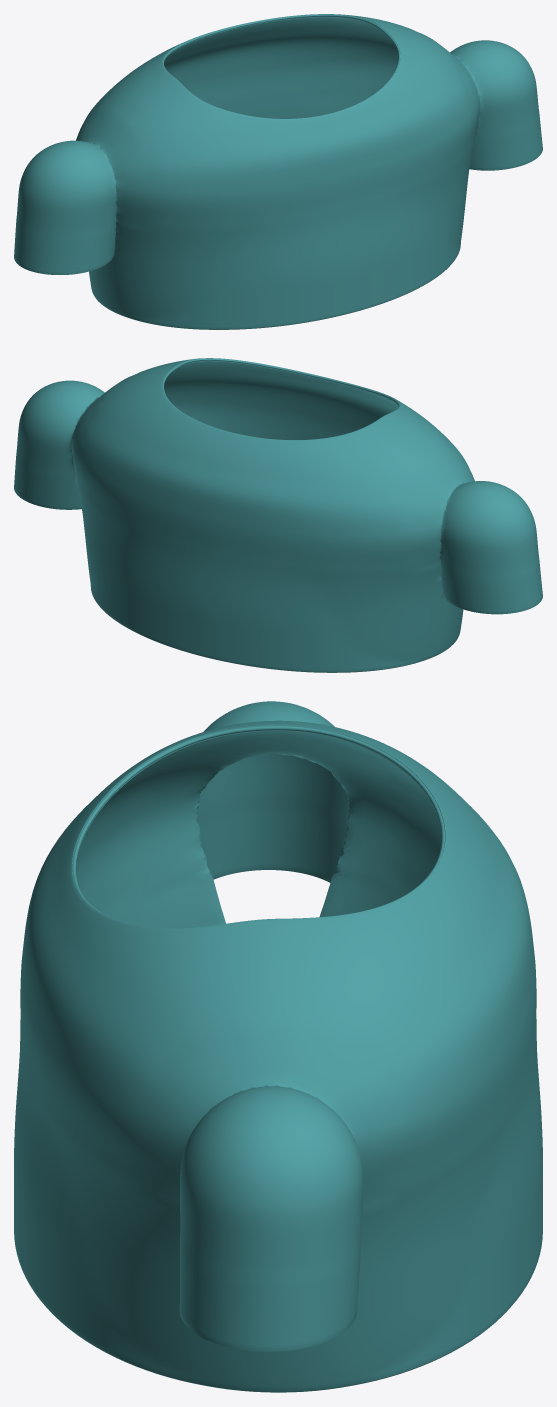
Rendered from Masculine-tshirt-top.glb.
3 views of the same model, one above another, from view 1: azimuth 30°, elevation 25°; view 2: azimuth 150°, elevation 25°; view 3: azimuth 270°, elevation 25° (orthographic). The views are drawn at different scales.
Parts seen in each view (by area): view 1: Clothing / continuous T-shirt181, Neckline / seated181 export; view 2: Clothing / continuous T-shirt181, Neckline / seated181 export; view 3: Clothing / continuous T-shirt181, Neckline / seated181 export.
Boxes of the visible parts, x1,y1,x2,y2 form: Clothing / continuous T-shirt181: (14, 14, 542, 329); Neckline / seated181 export: (162, 14, 400, 119); Clothing / continuous T-shirt181: (14, 358, 542, 672); Neckline / seated181 export: (162, 358, 400, 440); Clothing / continuous T-shirt181: (14, 701, 542, 1391); Neckline / seated181 export: (72, 726, 444, 928).
Size of the model in its own units: 0.9995 by 0.3945 by 0.461.
